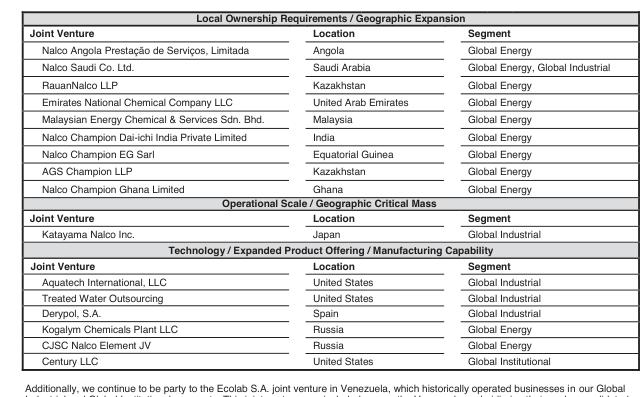table: (28, 28, 609, 366)
table column: (28, 28, 287, 366), (437, 28, 609, 366), (287, 28, 437, 366)
table column header: (28, 28, 609, 41)
table projected row header: (28, 242, 609, 258), (28, 196, 609, 210)
table row: (28, 58, 609, 76), (28, 110, 609, 128), (28, 162, 609, 180), (28, 41, 609, 58), (28, 76, 609, 93), (28, 93, 609, 110), (28, 128, 609, 145), (28, 145, 609, 162), (28, 180, 609, 196), (28, 210, 609, 226), (28, 226, 609, 242), (28, 242, 609, 258), (28, 273, 609, 289), (28, 289, 609, 305), (28, 305, 609, 321), (28, 321, 609, 337), (28, 337, 609, 353), (28, 258, 609, 273), (28, 196, 609, 210), (28, 28, 609, 41), (28, 353, 609, 366)
